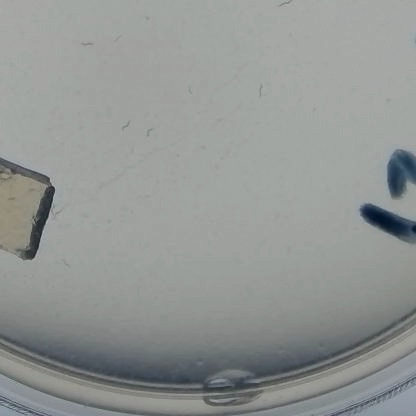worm: (251, 77, 271, 109), (76, 37, 98, 55), (108, 30, 126, 52), (137, 12, 155, 34), (59, 254, 83, 268), (142, 120, 155, 145), (273, 0, 296, 14), (115, 116, 132, 134), (182, 82, 193, 102)
